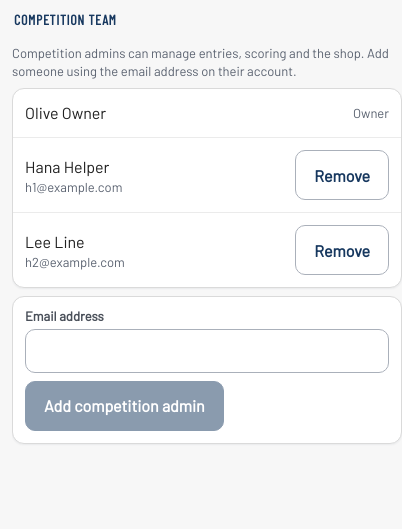
Scenario: CompetitionTeamCard › falls back to a plain message when the server gives none
Check: the text "Hana Helper" is shown, box [25,155,122,179]
Type "cam@example.com" into the field labelled "Email address" at x=207, y=351, box [25,329,389,373]
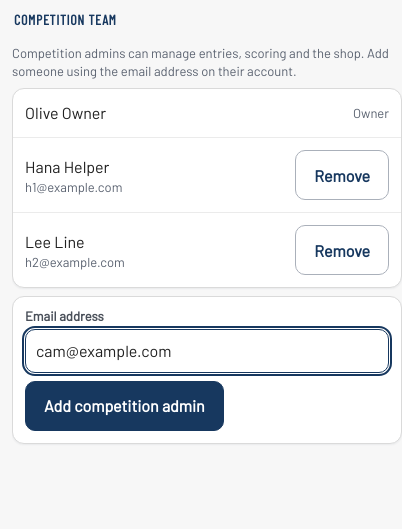
Click the button "Add competition admin" at x=124, y=406, box [25,381,224,431]
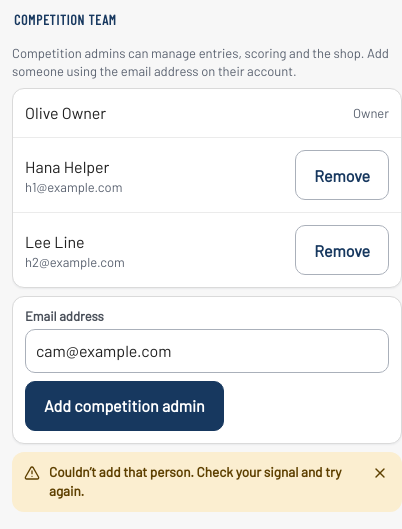
Check: the message shows "Couldn’t add that person", box [49,463,342,499]
